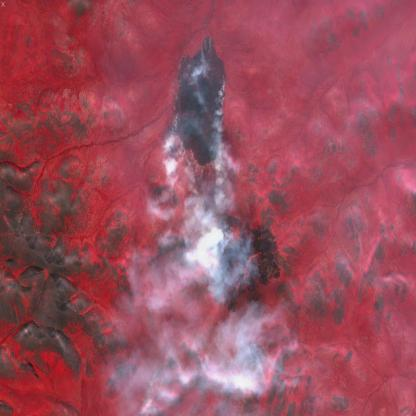fire: (171, 30, 228, 167)
